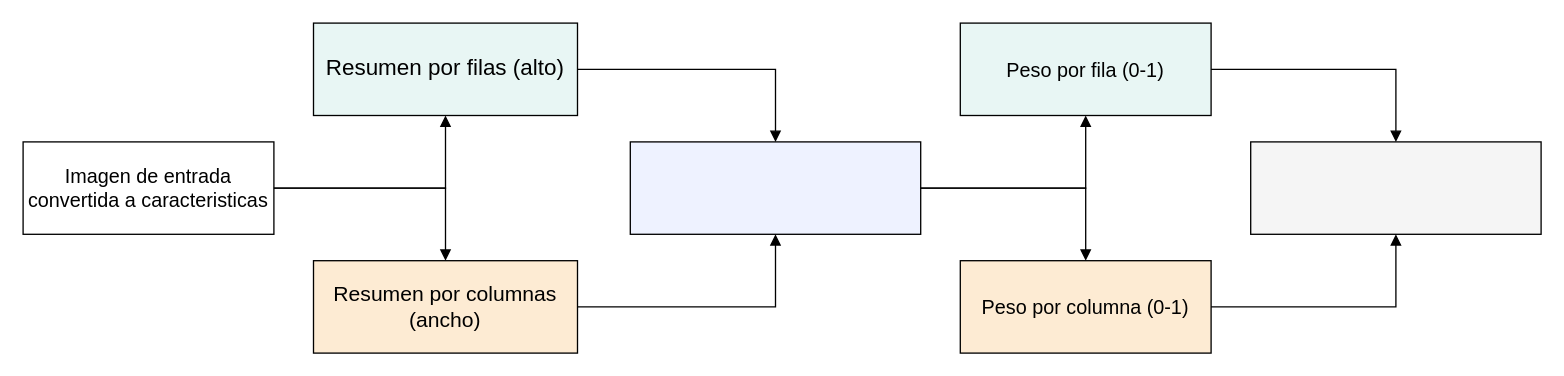
The diagram is 1564 pixels wide and 376 high, and some of its shapes have lost their labels. The shapes that lost their labels are listed below. From the top down, each one's centre as x and y in pixels, then its label:
[775,187]: Combina info horizontal y vertical
[1395,187]: Reponderación realza zonas importantes
